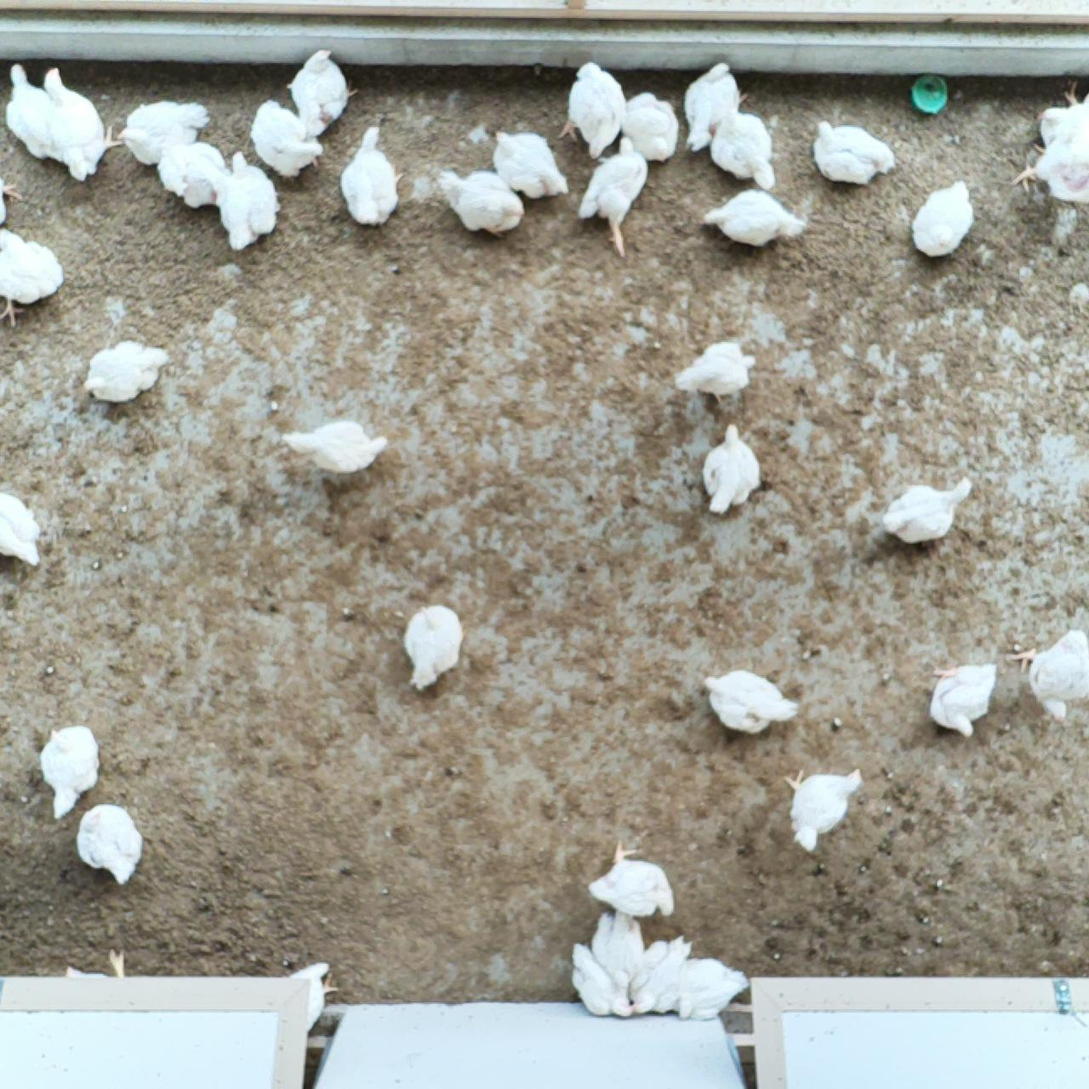chicken: (44, 65, 122, 182), (582, 136, 650, 255), (780, 766, 869, 852), (429, 163, 526, 239), (5, 60, 73, 167), (1014, 629, 1089, 725), (246, 99, 329, 180), (699, 421, 767, 518), (0, 227, 66, 326), (288, 49, 361, 137), (217, 151, 281, 251), (342, 123, 404, 225), (283, 418, 391, 476), (882, 475, 974, 543), (589, 845, 674, 918), (704, 668, 798, 734), (683, 64, 750, 156), (806, 121, 894, 191), (489, 128, 572, 202), (81, 337, 171, 405), (120, 102, 210, 170), (706, 101, 776, 188), (558, 58, 622, 152), (157, 132, 235, 209), (707, 188, 808, 247), (1008, 124, 1089, 197), (665, 958, 751, 1024), (910, 179, 978, 261), (630, 935, 696, 1017), (44, 724, 100, 820), (402, 605, 463, 692), (80, 804, 145, 885), (672, 337, 756, 399), (567, 945, 638, 1017), (587, 903, 643, 991), (931, 660, 998, 733), (622, 97, 682, 169), (1031, 78, 1089, 152), (0, 488, 46, 572), (0, 176, 23, 224)
